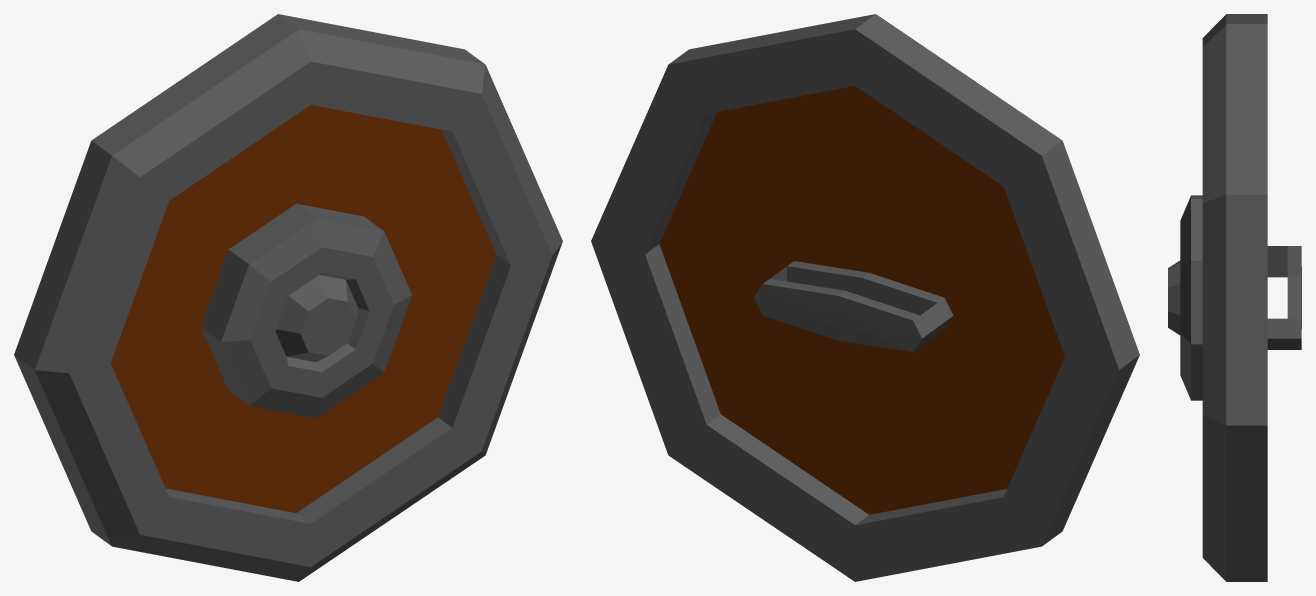
Rendered from Shield.fbx.
3 views of the same model, side by side, from view 1: azimuth 30°, elevation 25°; view 2: azimuth 150°, elevation 25°; view 3: azimuth 270°, elevation 25° (orthographic).
Visible parts, largest first — view 1: Shield; view 2: Shield; view 3: Shield.
Boxes of the visible parts, x1,y1,x2,y2 form: Shield: [14, 14, 562, 581]; Shield: [591, 14, 1139, 581]; Shield: [1168, 14, 1301, 581].
Size of the model in its own units: 281 by 281 by 62.24.
